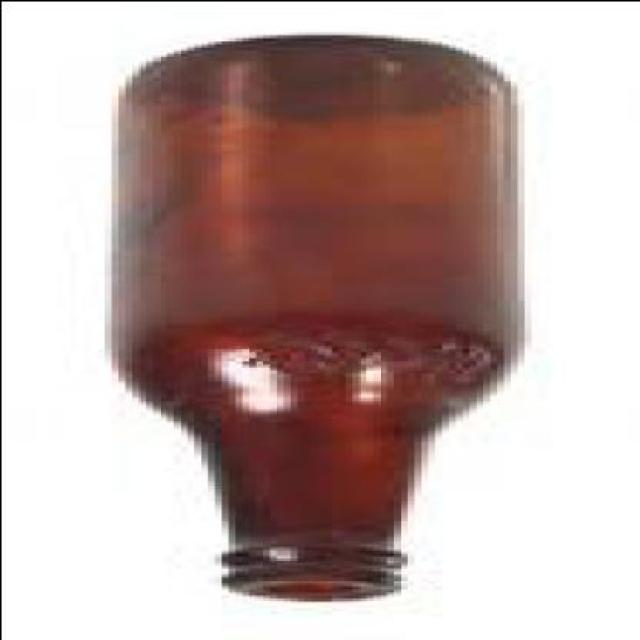GLASS: (90, 37, 502, 603)
